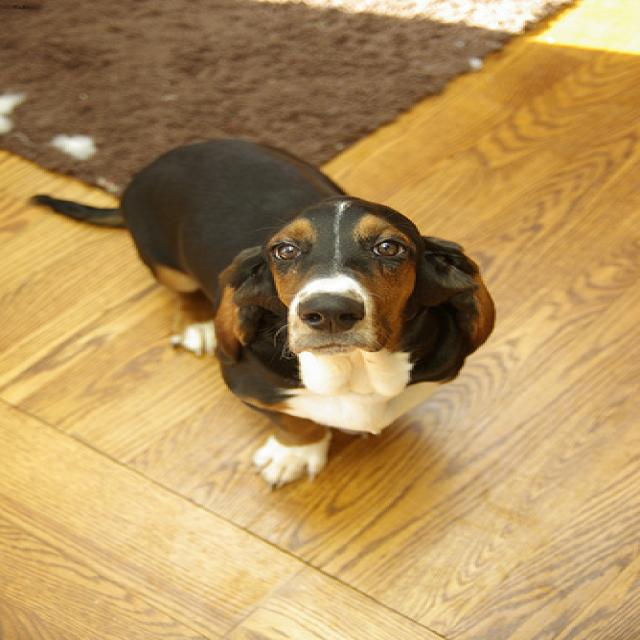dog-basset_hound: (21, 127, 502, 498)
